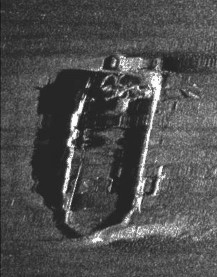ship: (58, 52, 163, 231)
